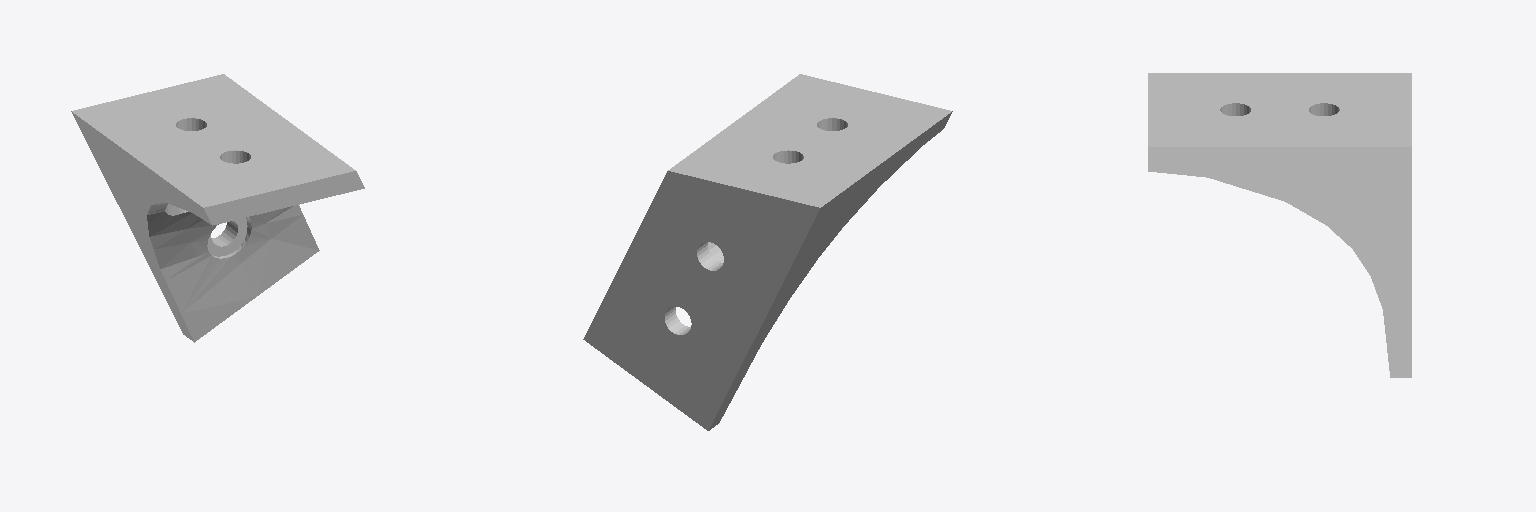
Rendered from body_Angled_Stiffener_Angled_Stiffener.obj.
The picture shows the model from 3 angles: view 1: azimuth 30°, elevation 25°; view 2: azimuth 150°, elevation 25°; view 3: azimuth 270°, elevation 25°; orthographic projection.
Bounding box in the file's own units: 0.0395 × 0.0399 × 0.0381.